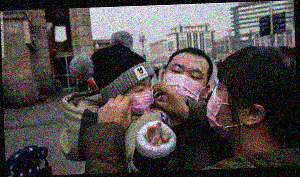with_mask: (205, 81, 243, 139), (162, 61, 208, 108), (124, 77, 154, 115)
